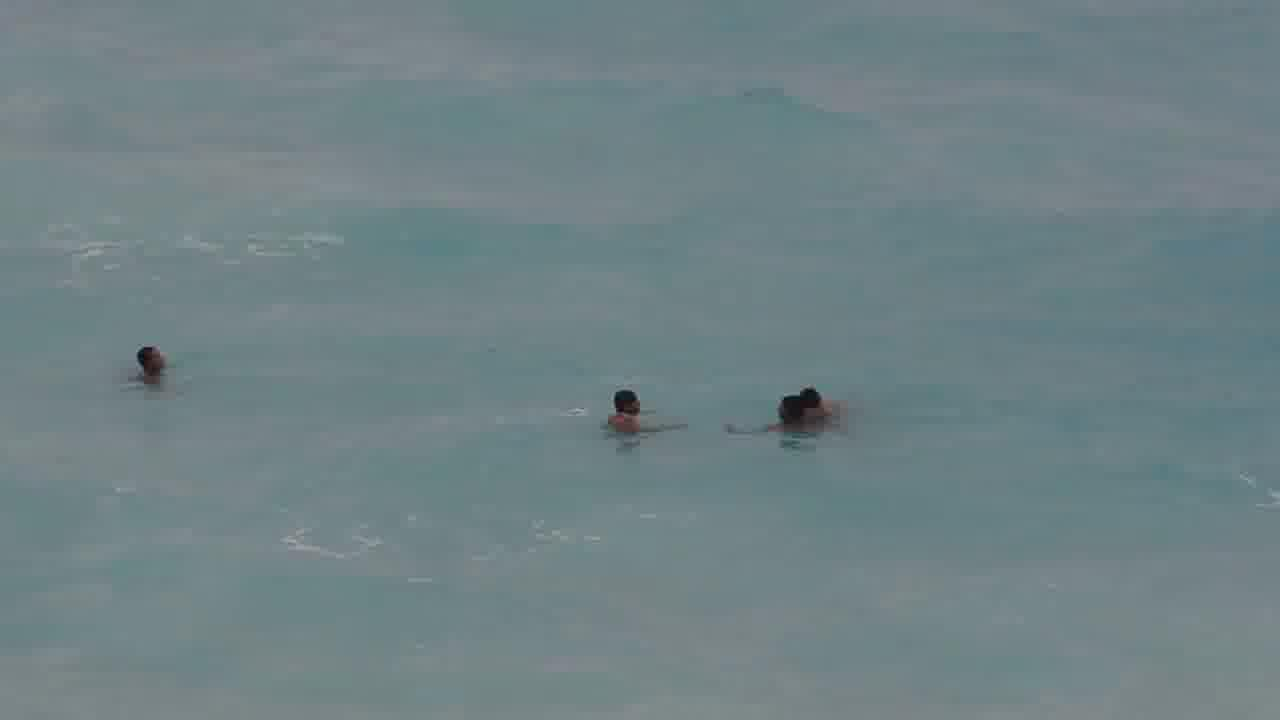swimmer: (771, 372, 838, 435), (797, 362, 863, 424), (124, 342, 180, 388), (610, 378, 651, 433)
